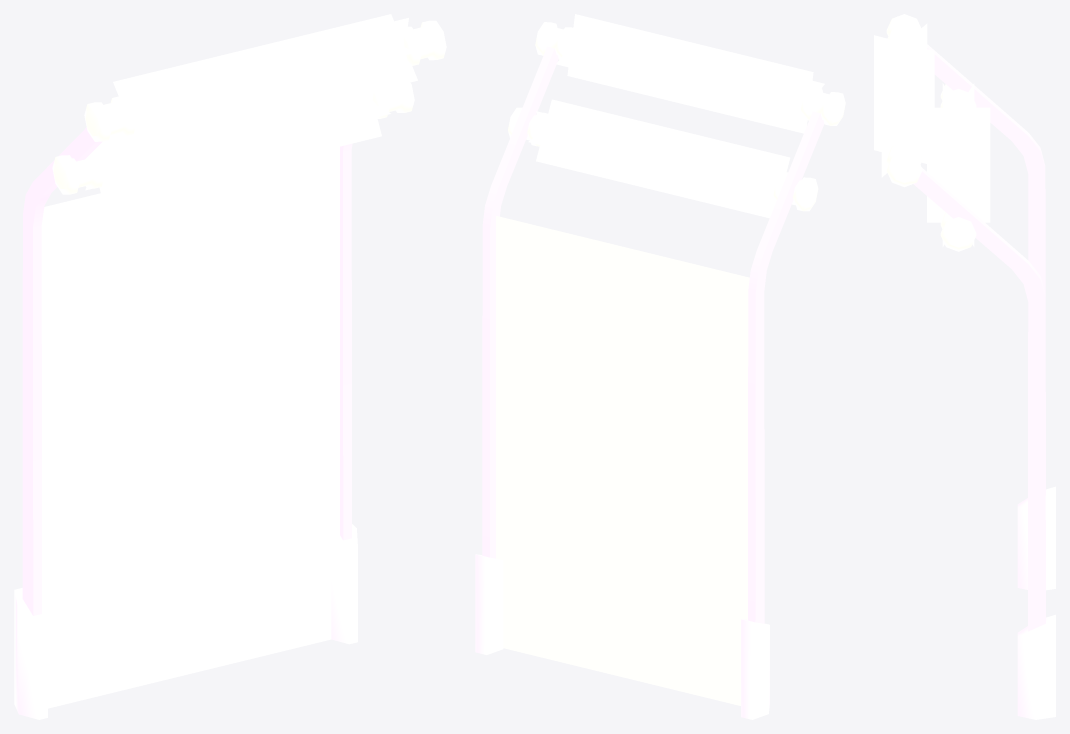
Rendered from Fence.glb.
3 views of the same model, side by side, from view 1: azimuth 30°, elevation 25°; view 2: azimuth 150°, elevation 25°; view 3: azimuth 270°, elevation 25° (orthographic). The views are drawn at different scales.
Parts seen in each view (by area): view 1: Fence; view 2: Fence; view 3: Fence.
Part boxes in pixels (bbox=[...]): Fence: bbox=[14, 14, 446, 719]; Fence: bbox=[475, 14, 845, 719]; Fence: bbox=[874, 14, 1055, 719].
Bounding box in the file's own units: 1.42 × 2.68 × 0.7658.
